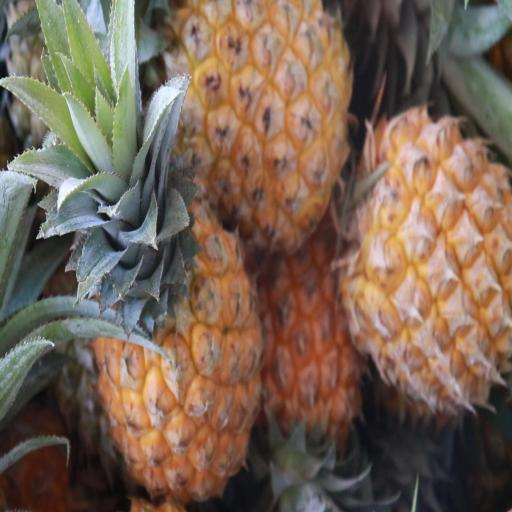Pineapple - v8 v1: (87, 132, 269, 494), (345, 107, 512, 409), (177, 0, 350, 237), (262, 236, 372, 482)
